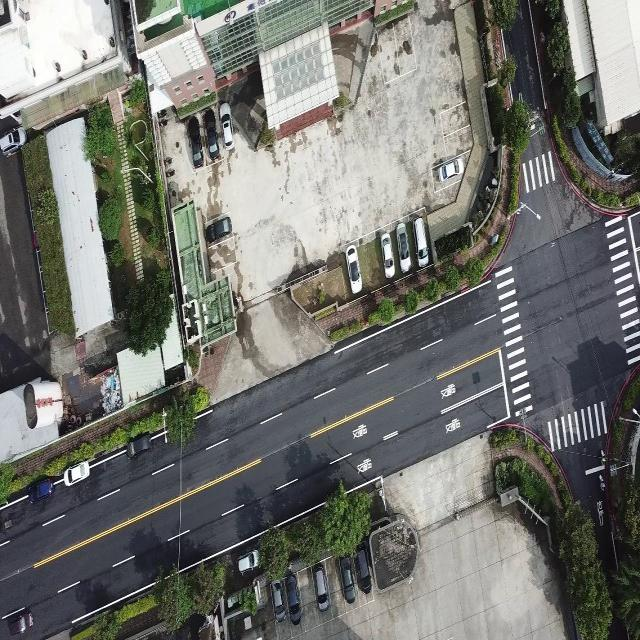car: (186, 114, 204, 168), (202, 105, 219, 159), (8, 606, 35, 639), (412, 217, 429, 268), (205, 214, 232, 246), (125, 429, 152, 461), (345, 244, 362, 294), (286, 571, 302, 624), (395, 221, 411, 273), (0, 125, 26, 157), (339, 555, 355, 603), (218, 102, 234, 149), (64, 460, 90, 487), (438, 158, 465, 184), (314, 565, 329, 611), (270, 580, 286, 623), (27, 478, 53, 504), (380, 231, 394, 279), (357, 545, 371, 593), (236, 549, 260, 575)
